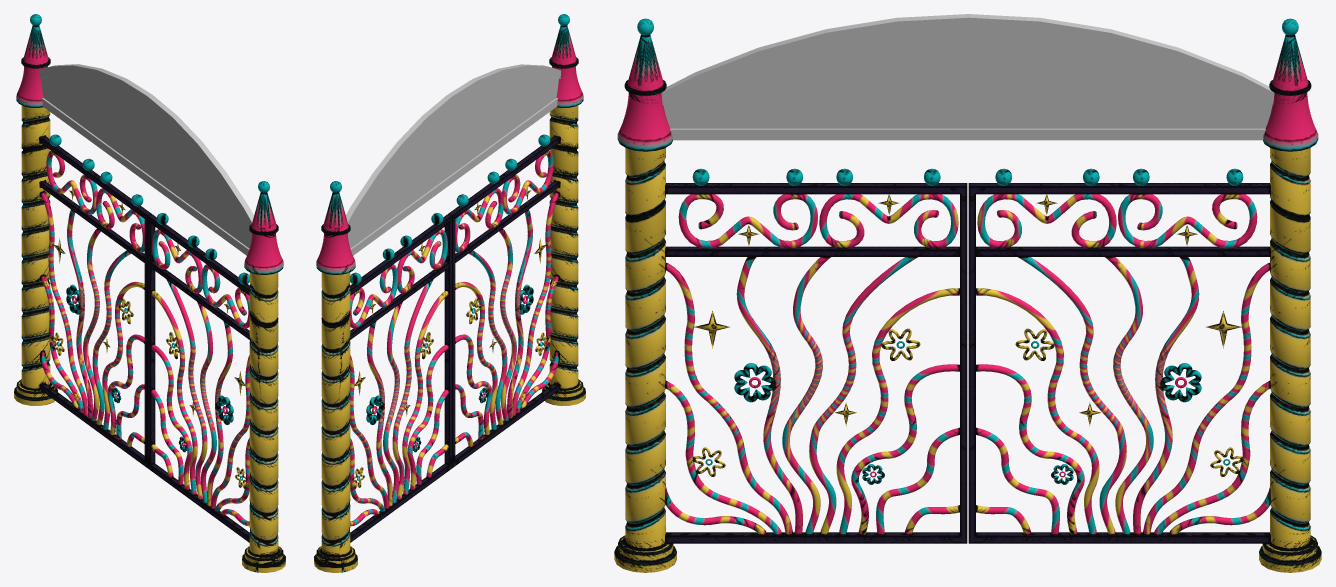
File: portails_marie.fbx
3 renders of one model, left to right at view 1: azimuth 30°, elevation 25°; view 2: azimuth 150°, elevation 25°; view 3: azimuth 270°, elevation 25°, orthographic. The views are drawn at different scales.
Parts seen in each view (by area): view 1: Circle.001, Plane.004, Circle.002, Cylinder.007, Cylinder.006; view 2: Circle.002, Plane.004, Circle.001, Cylinder.006, Cylinder.007; view 3: Plane.004, Circle.001, Circle.002, Cylinder.006, Cylinder.007.
Boxes of the visible parts, <box> form: Circle.001: <box>147,213,249,542</box>; Plane.004: <box>39,64,253,255</box>; Circle.002: <box>40,134,152,467</box>; Cylinder.007: <box>242,181,285,572</box>; Cylinder.006: <box>14,14,57,405</box>; Circle.002: <box>350,213,452,542</box>; Plane.004: <box>345,64,560,255</box>; Circle.001: <box>447,134,559,467</box>; Cylinder.006: <box>314,181,357,572</box>; Cylinder.007: <box>542,14,585,405</box>; Plane.004: <box>661,14,1274,140</box>; Circle.001: <box>665,168,967,543</box>; Circle.002: <box>968,168,1270,543</box>; Cylinder.006: <box>1259,18,1321,572</box>; Cylinder.007: <box>614,18,676,572</box>.
Size of the model in its own units: 0.8219 by 7.89 by 9.3.
